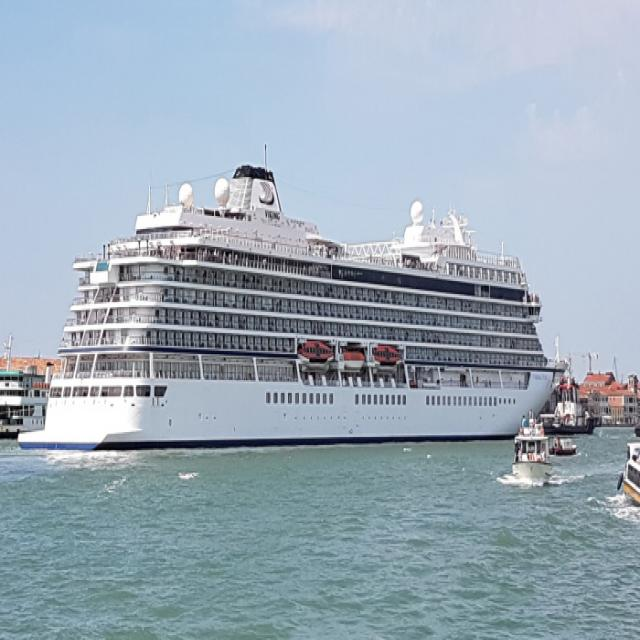cruises: (13, 154, 570, 459)
